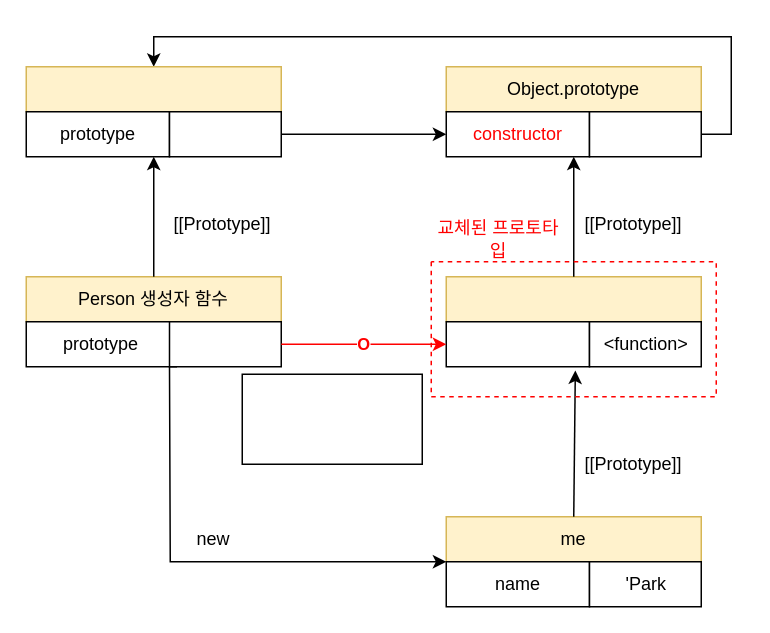
The diagram is 770 pixels wide and 633 high, and some of its shapes have lost their labels. The shapes that lost their labels are listed below. From the top down, each one's box as (x1, y1, x2, y2) in pixels, then its label:
(25, 65, 281, 112): Object 생성자 함수
(445, 275, 701, 322): Person.prototype
(445, 320, 590, 367): sayHello
(241, 373, 422, 464): Person 생성자 함수의 prototype 프로퍼티가 교체된 프로토타입을 가리킨다.
